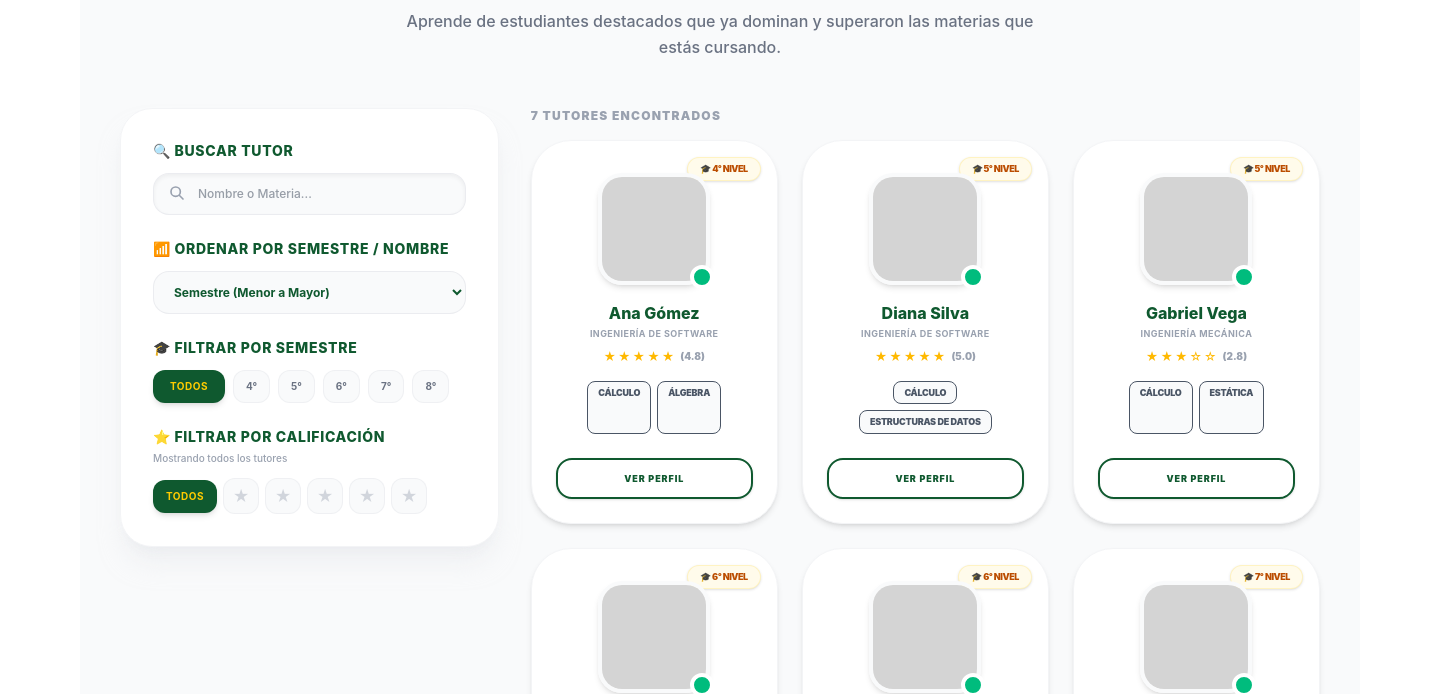
Test: BuscarTutor Page Tests › permite limpiar todos los filtros a la vez
The width and height of the screenshot is (1440, 694).
Expected: the heading "Ana Gómez" is shown, [609,301,700,325]
Type "Gómez" into the field with placeholder "Nombre o Materia..." at (309, 194), box [153,173,466,215]
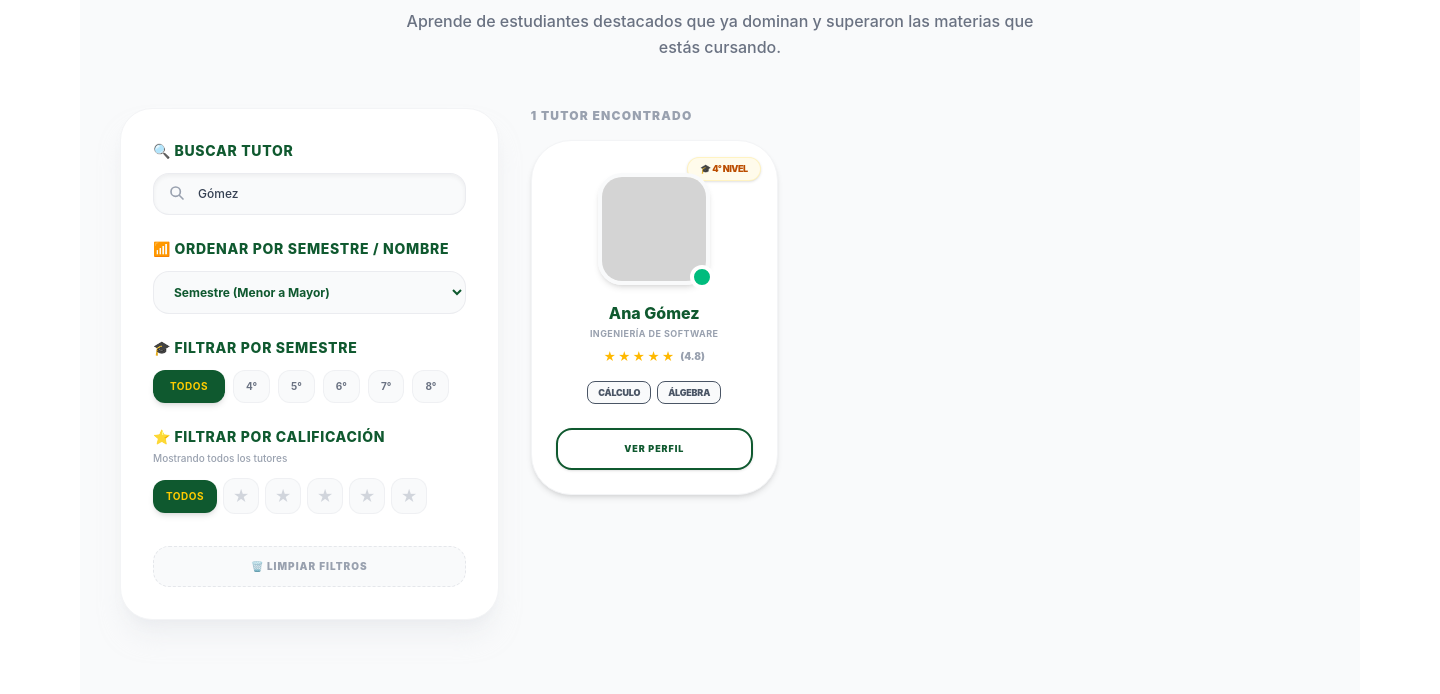
Click the button "🗑 Limpiar Filtros" at (309, 566), box [153,546,466,587]
(page scrolled)
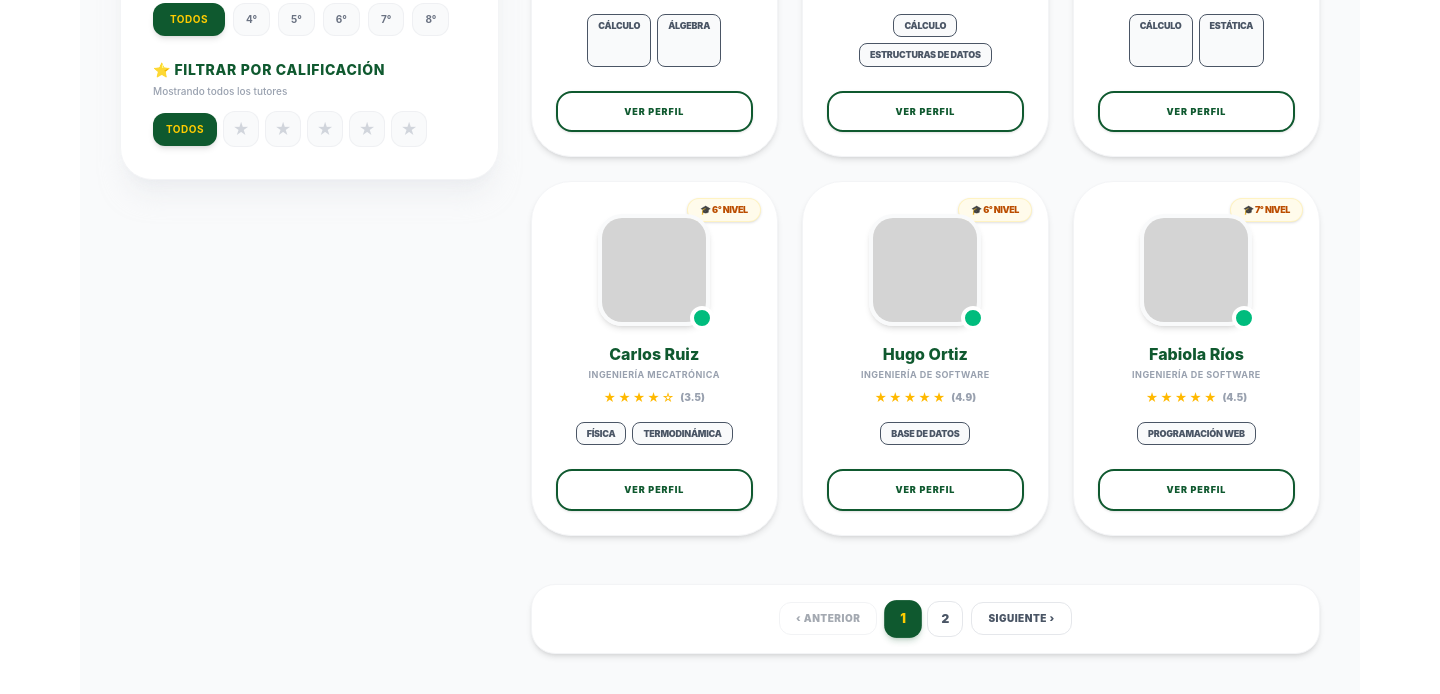
Now the heading "Carlos Ruiz" is shown, box [609,342,699,366]
